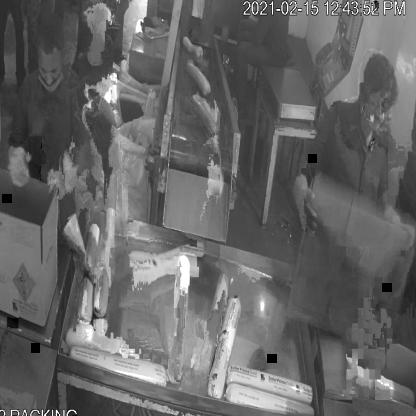glove: (286, 163, 324, 243)
no_glove: (235, 18, 264, 58)
